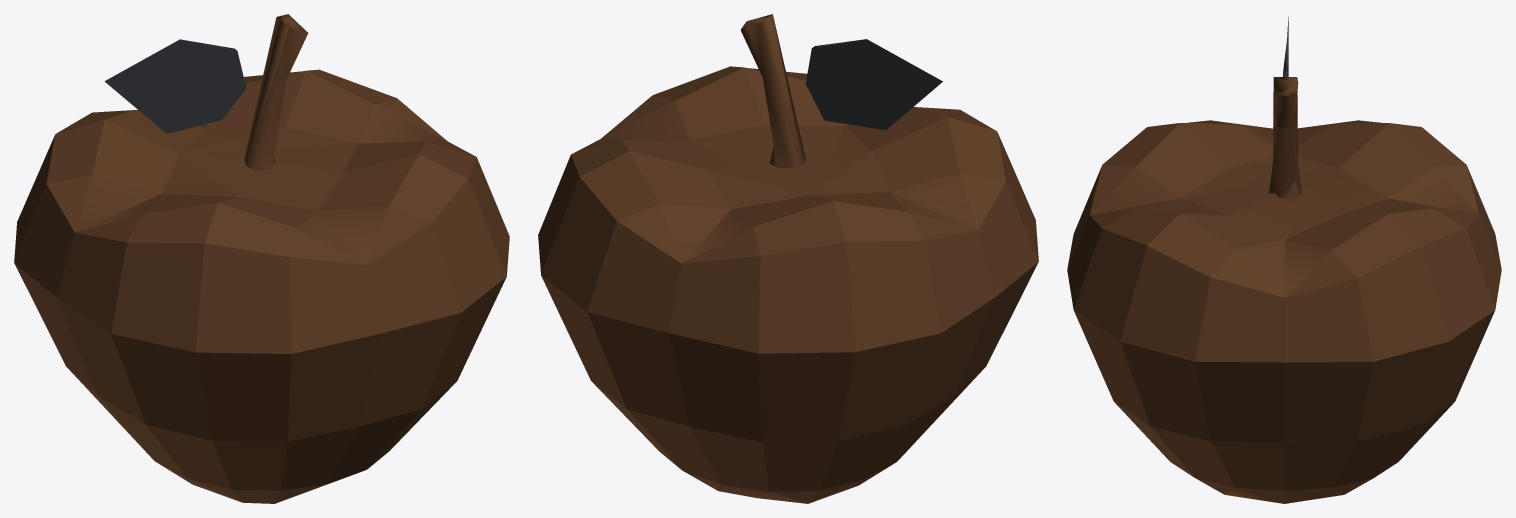
File: cc0-apple-lod1.glb
3 views of the same model, side by side, from view 1: azimuth 30°, elevation 25°; view 2: azimuth 150°, elevation 25°; view 3: azimuth 270°, elevation 25° (orthographic). The views are drawn at different scales.
Visible parts, largest first — view 1: part_0; view 2: part_0; view 3: part_0.
Part boxes in pixels (x1=…): part_0: x1=14, y1=14, x2=509, y2=503; part_0: x1=538, y1=14, x2=1038, y2=503; part_0: x1=1067, y1=16, x2=1501, y2=503.
Bounding box in the file's own units: 0.8025 × 0.8508 × 0.7987.
